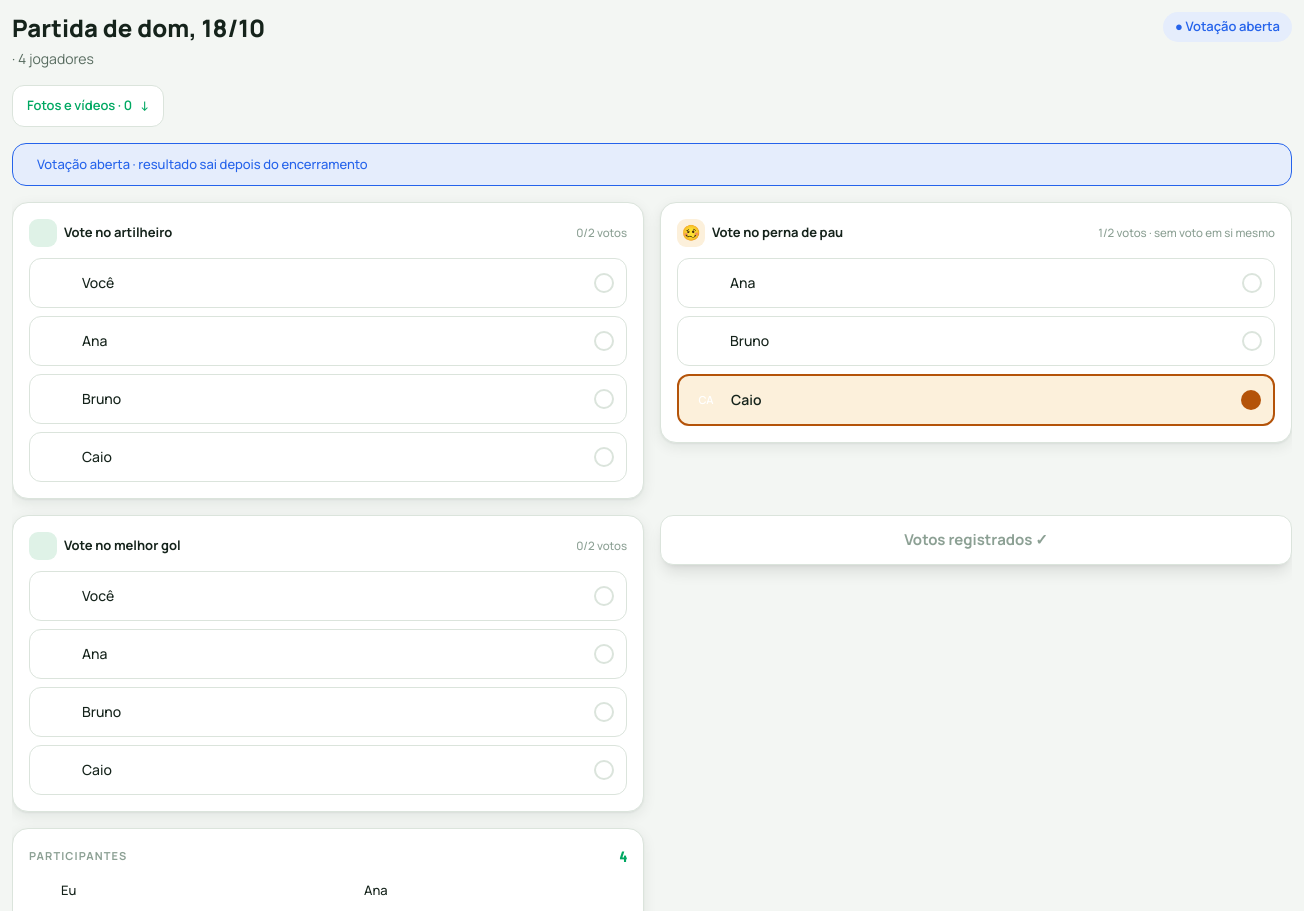
voting draft + submit (FUT-003) › sem mudança no rascunho o botão mostra votos registrados
Click the button "AN Ana" below "Vote no artilheiro".
click(57, 340)  # box top-left (29, 316), bottom-right (627, 366)
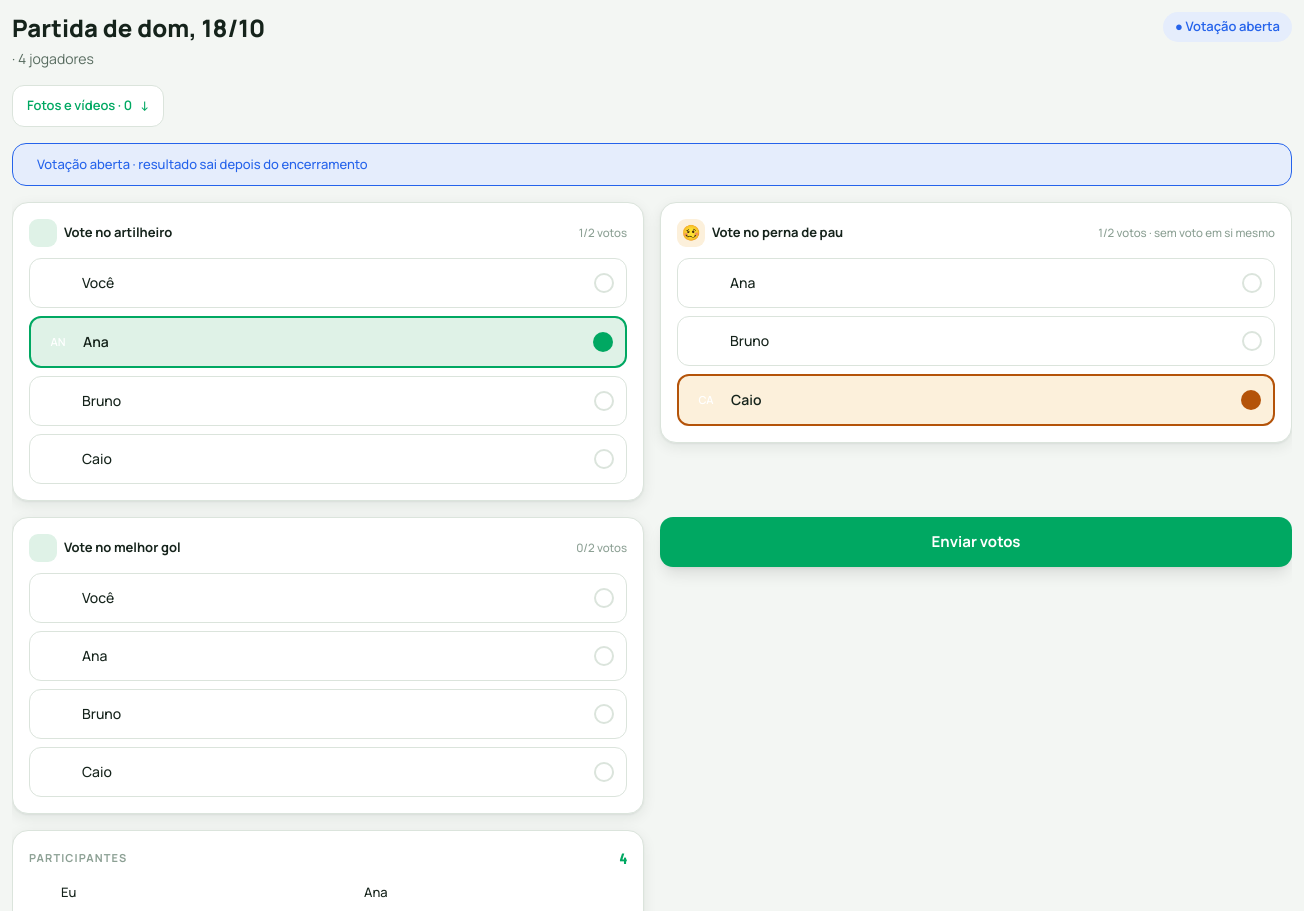
Click the button "AN Ana" below "Vote no artilheiro".
click(58, 341)  # box top-left (29, 316), bottom-right (627, 368)
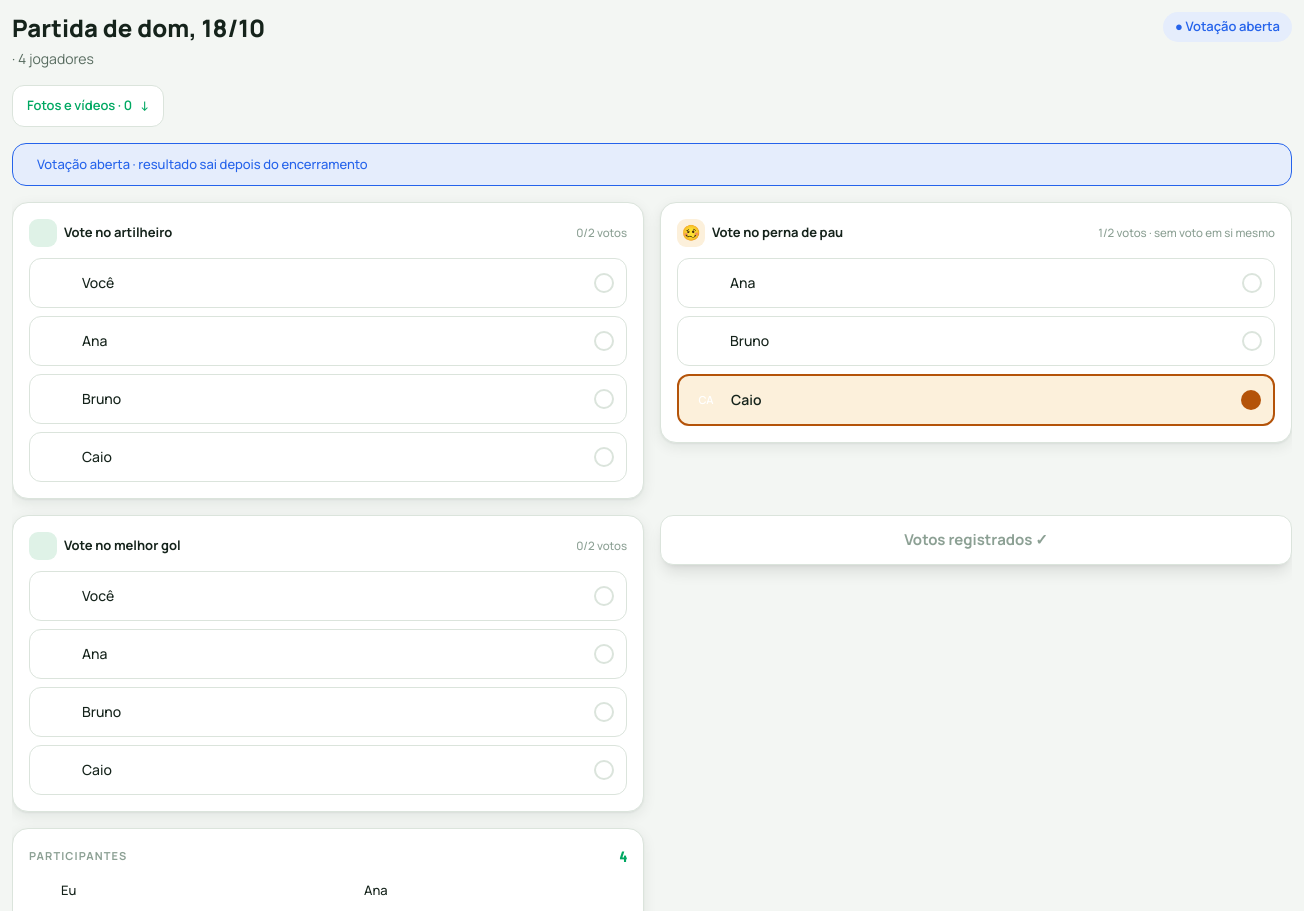
Expected: the text "Votos registrados ✓" is shown, top-left (660, 515), bottom-right (1292, 565)
